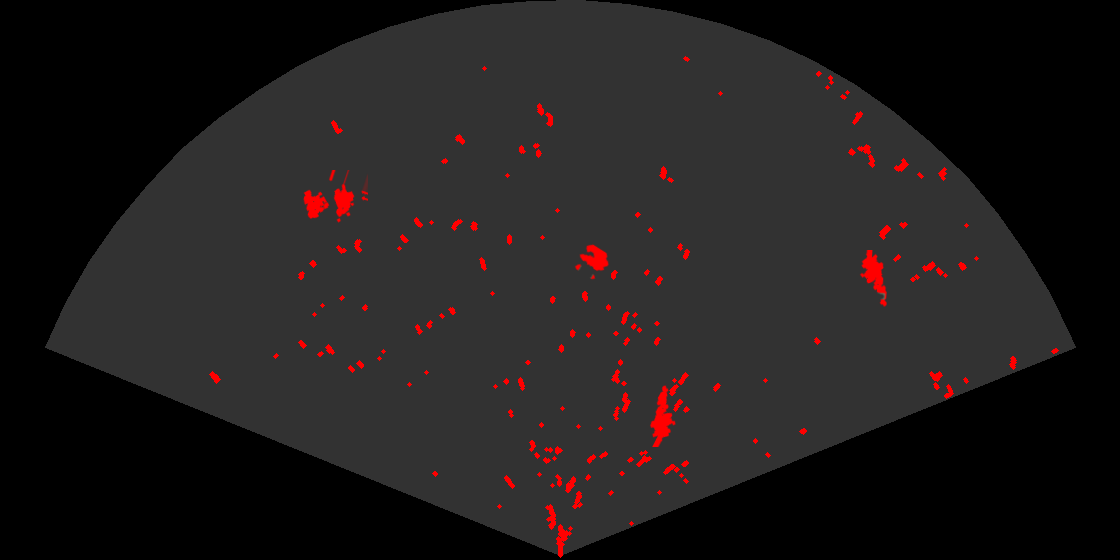ball: (573, 243, 610, 281)
cage: (302, 170, 368, 224)
frogman: (648, 383, 677, 447), (858, 250, 888, 307)
